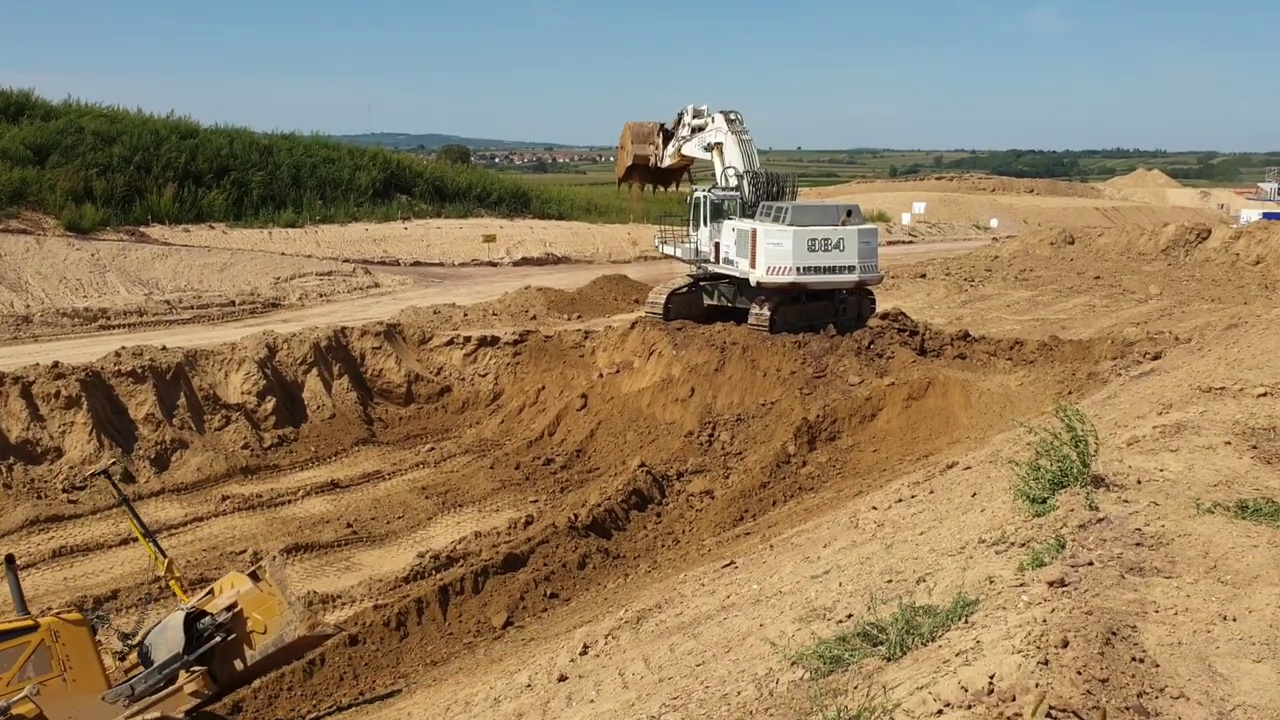bulldozer: (2, 455, 347, 720)
excavator: (612, 99, 885, 338)
